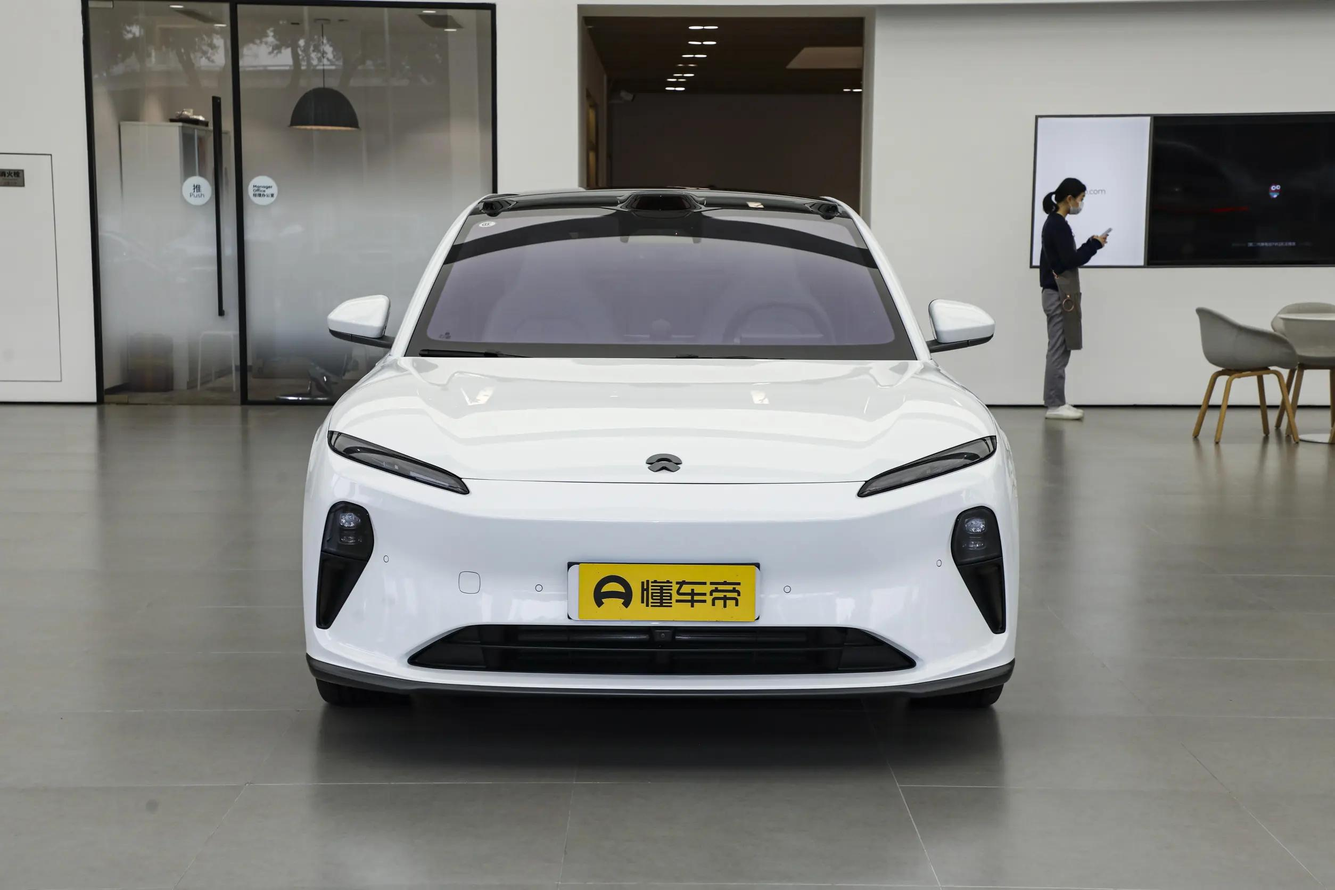NIO: (646, 452, 682, 473)
